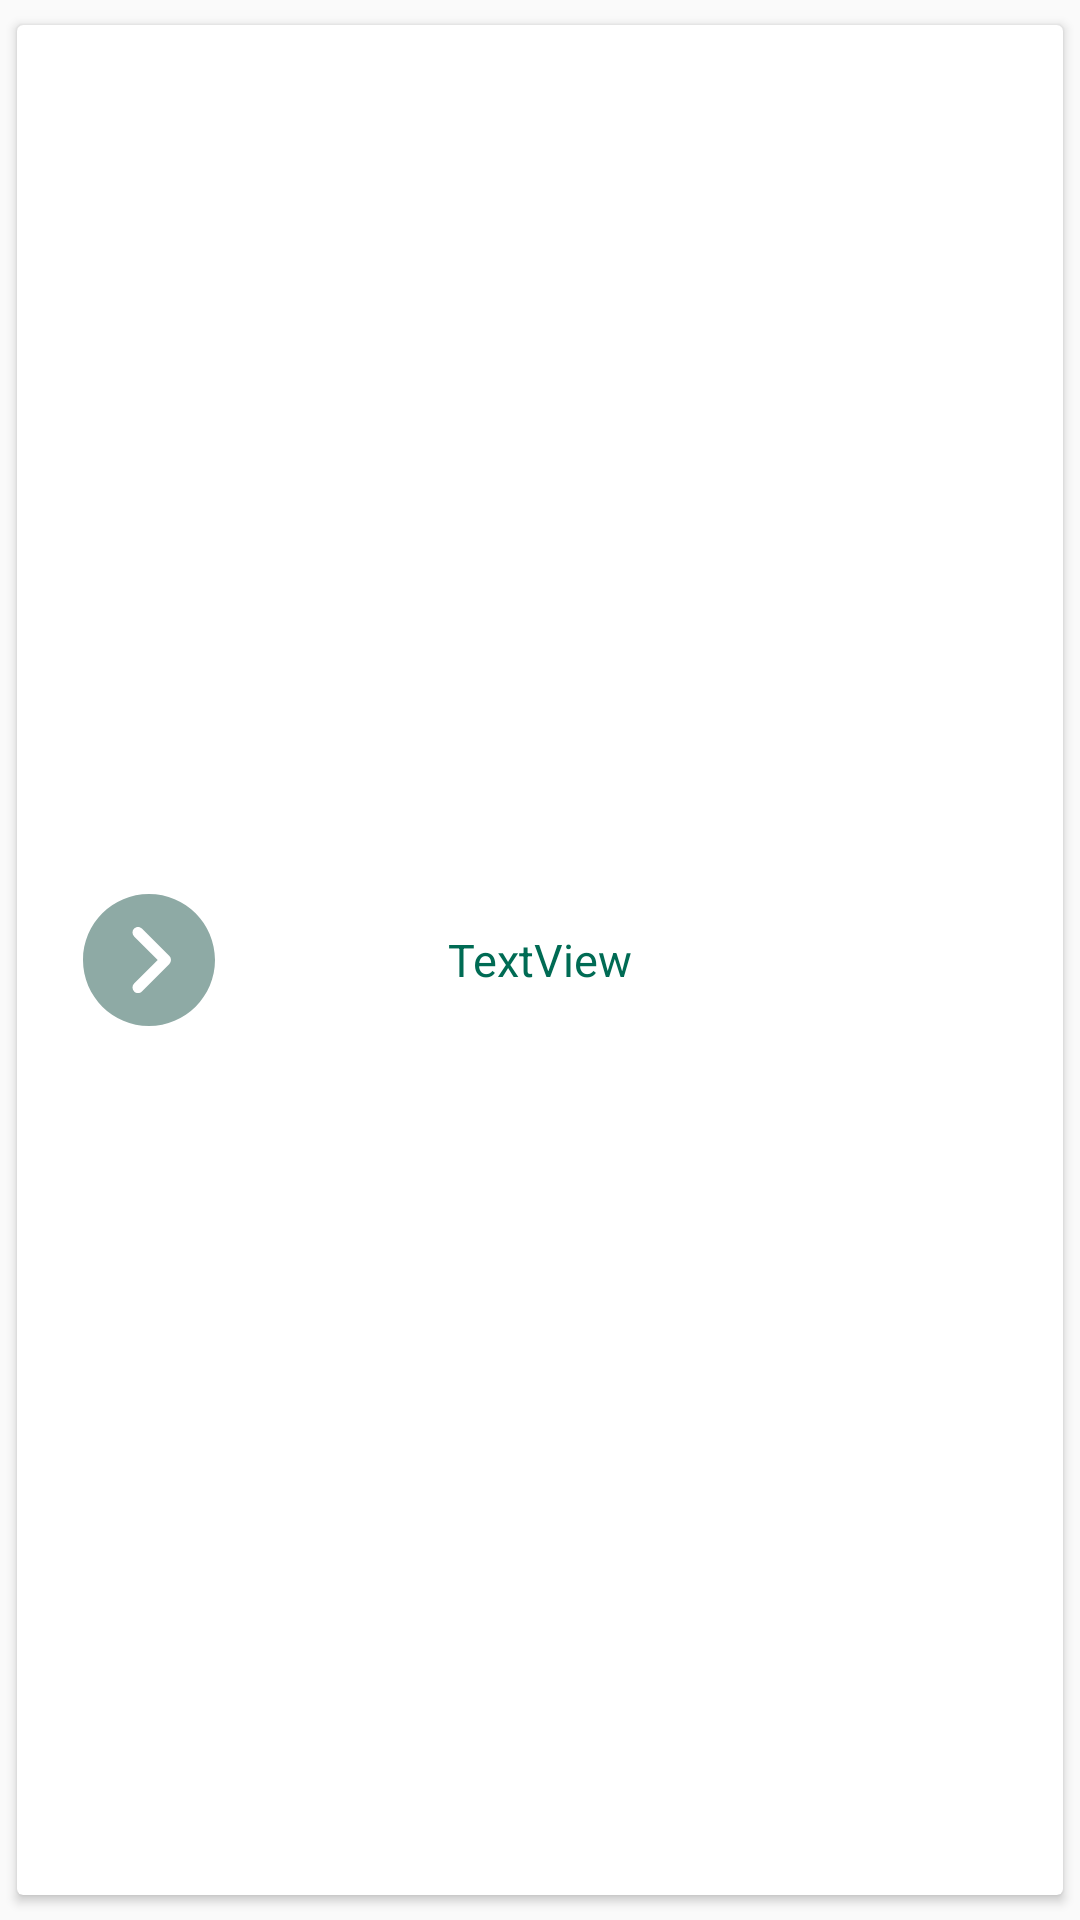

Icon bounding boxes for this 1080 × 1920 phone screenshot, format (x1, y1, x2, y2):
next: (83, 894, 215, 1026)
